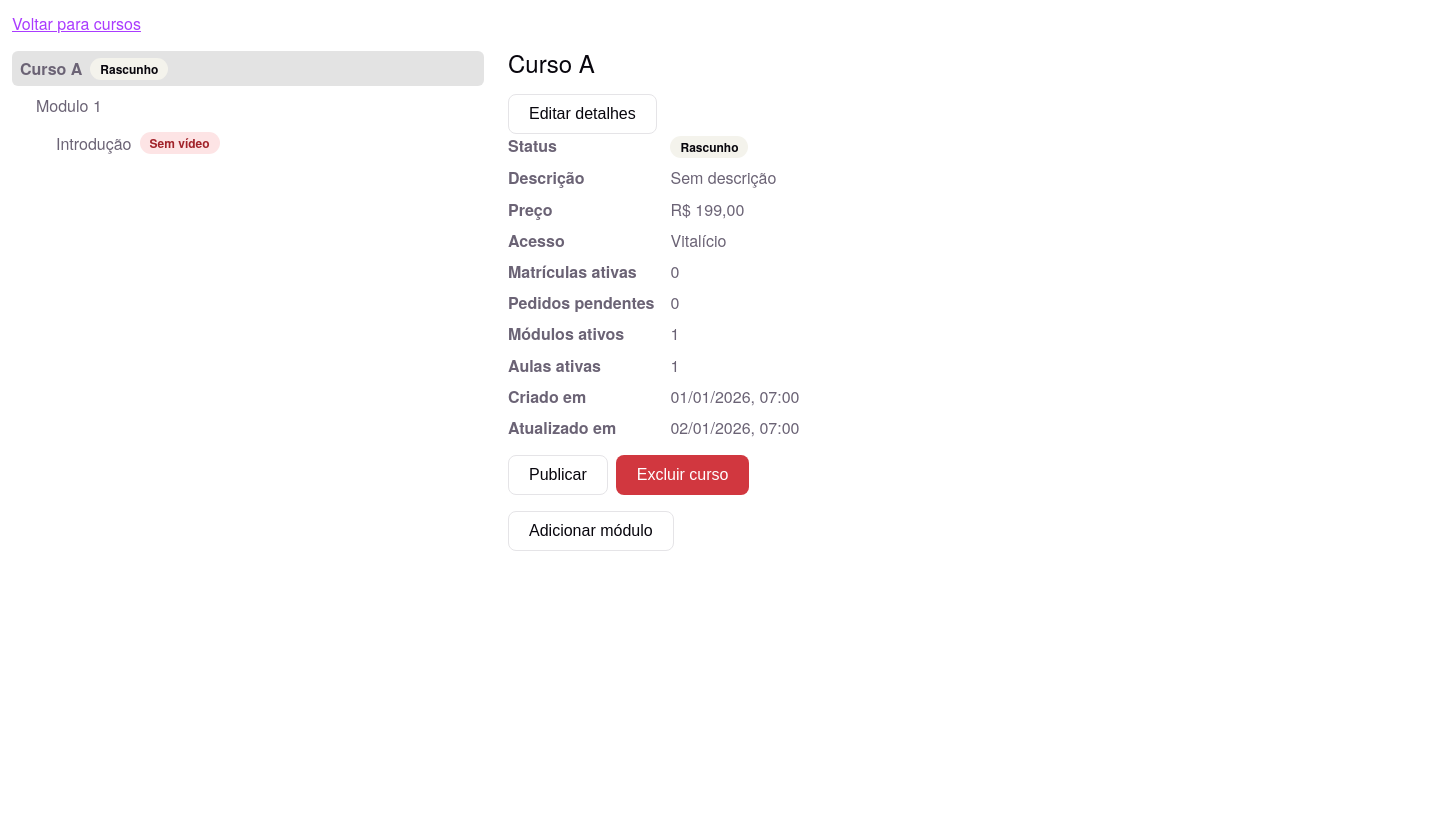
changing status › explains an invalid transition and re-reads the tree
Step 1. Click the button "Publicar" → [558, 475], box [508, 455, 608, 495]
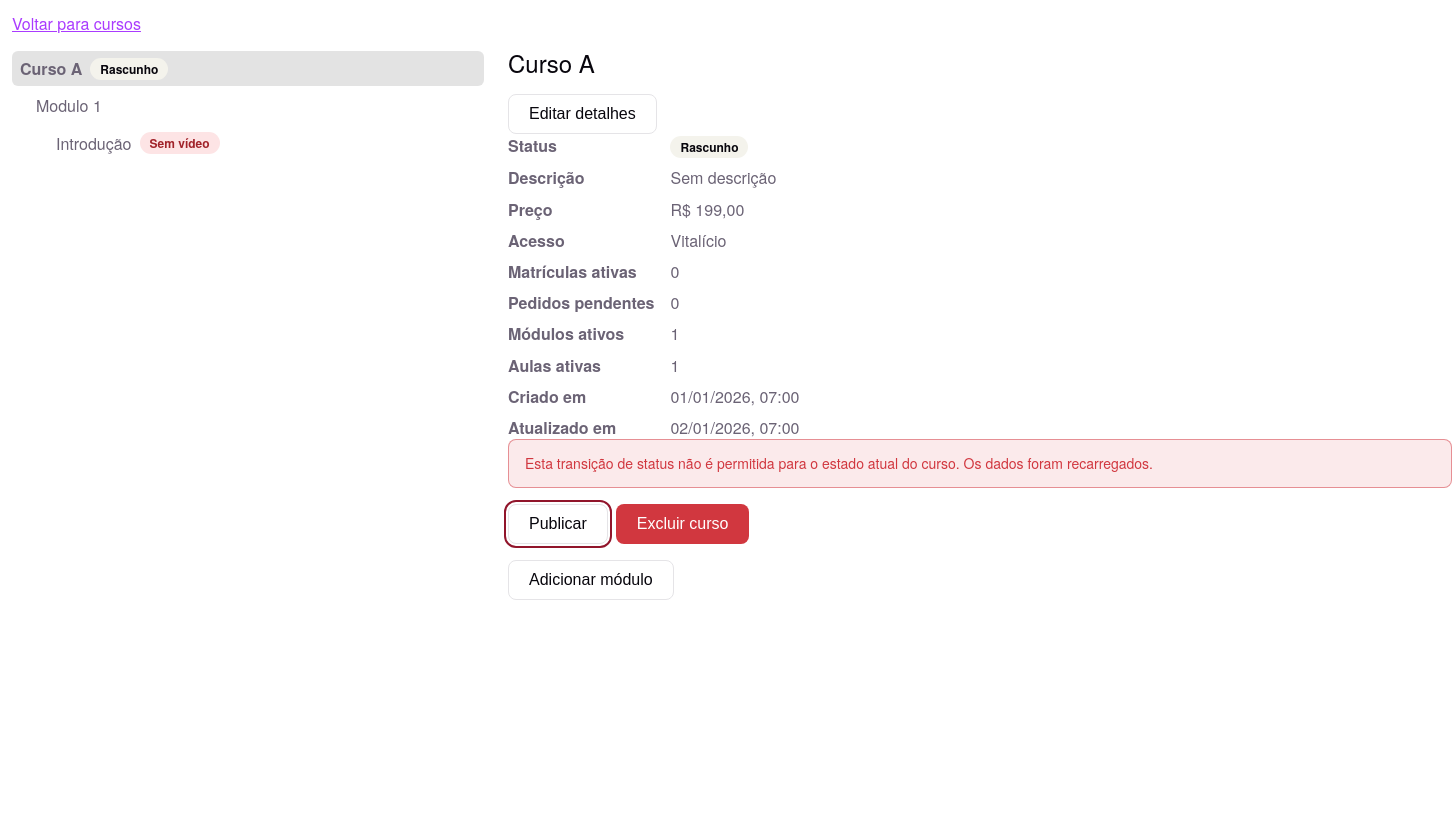
Now the message shows "transição de status", box [525, 453, 1153, 473]
